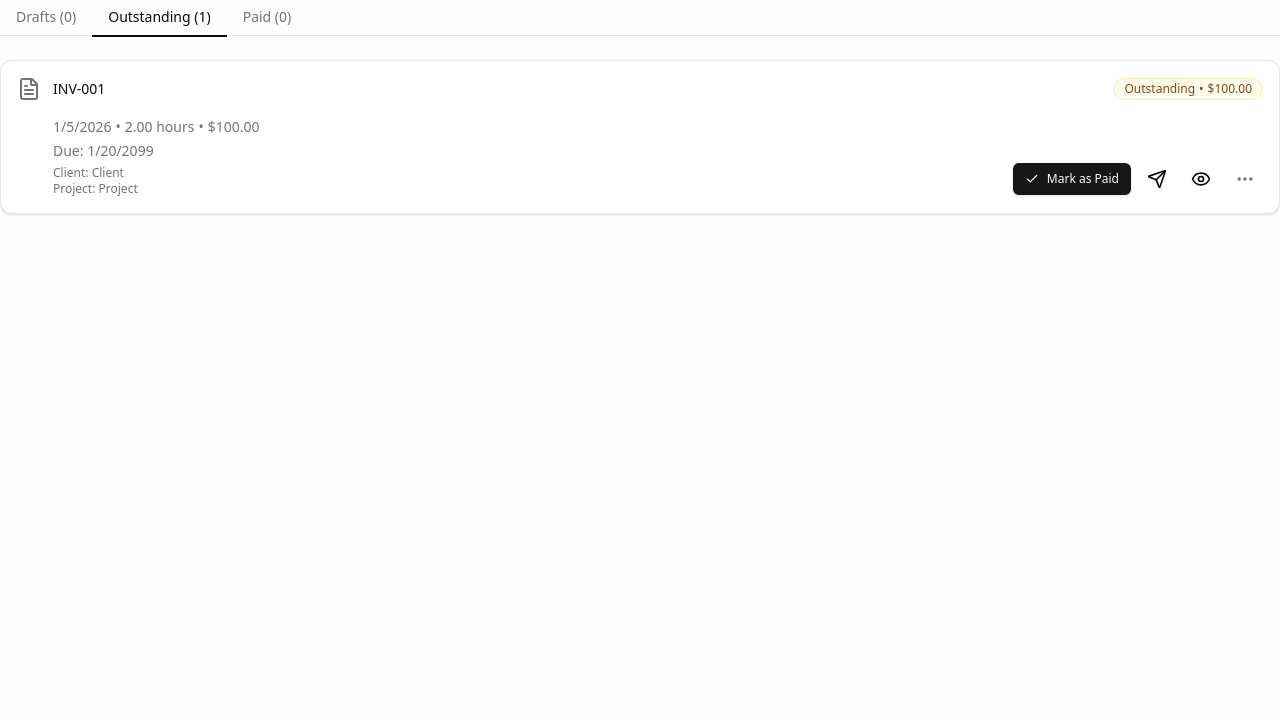
Test: InvoicesList › uses all active invoices when showing sequence rollback safety
Click the button named "More actions": (1245,179) [1227, 161, 1263, 197]
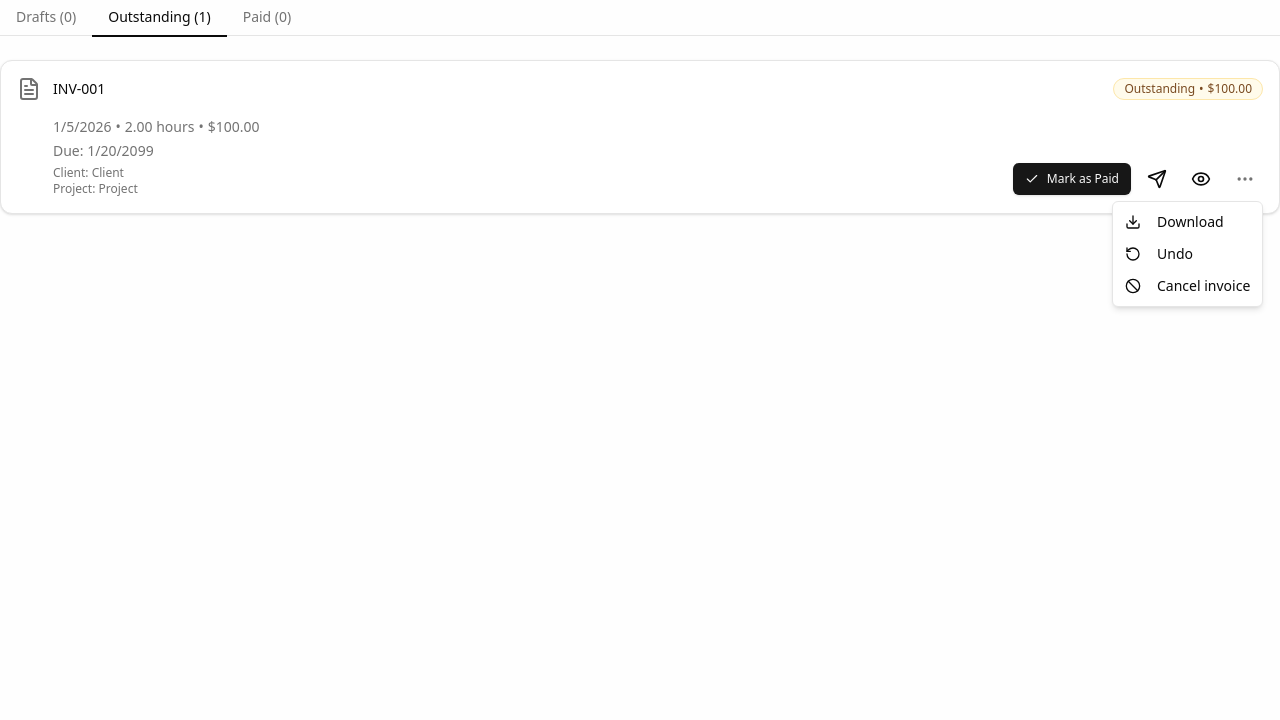
Click the menu item "Undo": (1159,254) [1125, 244, 1193, 263]
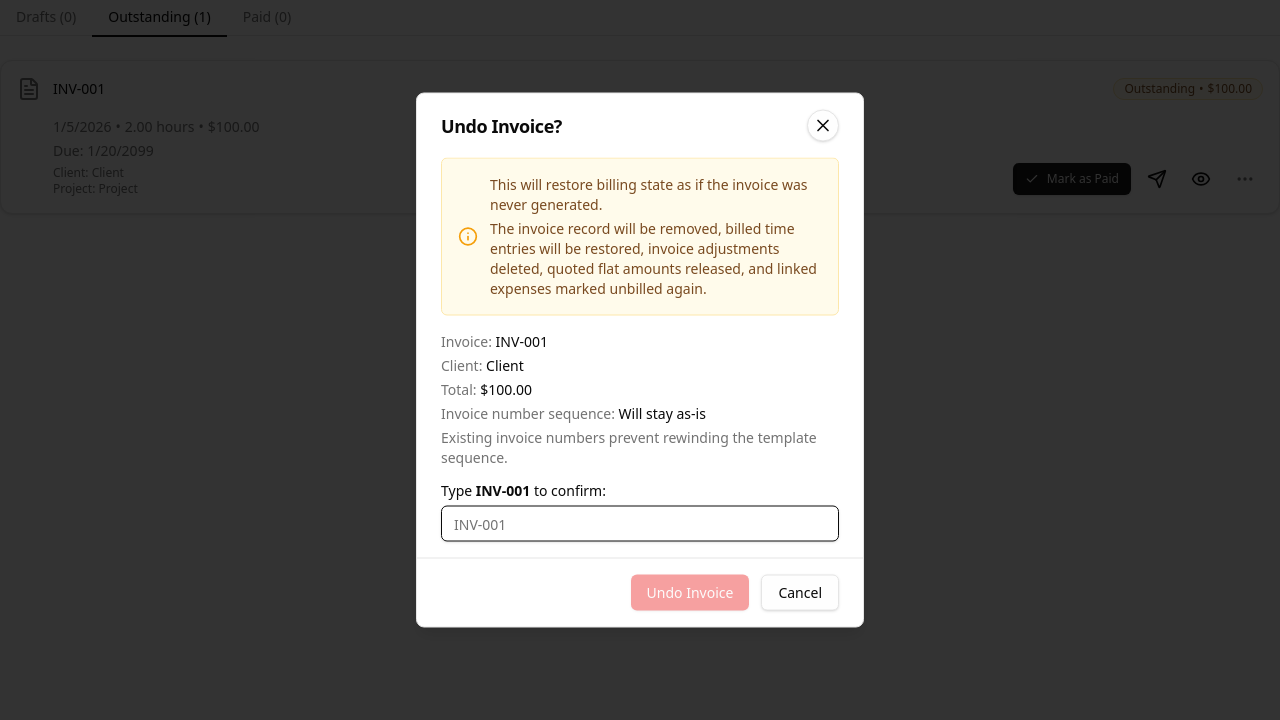
Check: the text "Will stay as-is" is shown, box [619, 404, 706, 422]
Check: the text "Existing invoice numbers prevent rewinding the template sequence." is shown, box [441, 428, 839, 468]
